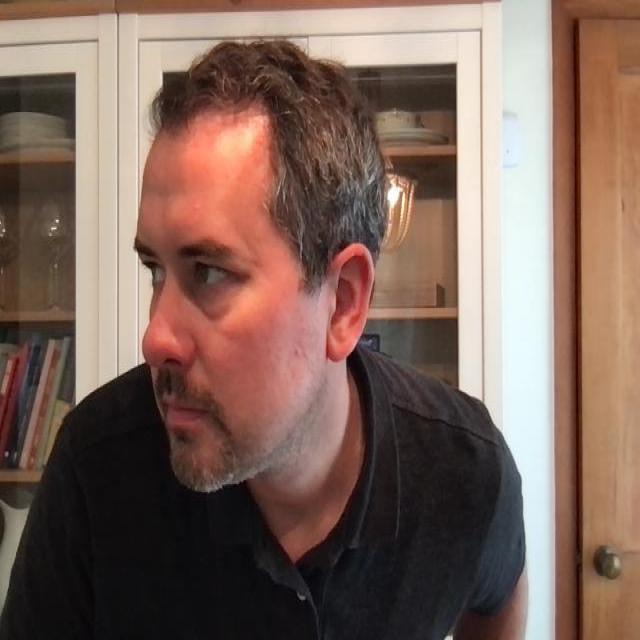face: (128, 40, 388, 503)
